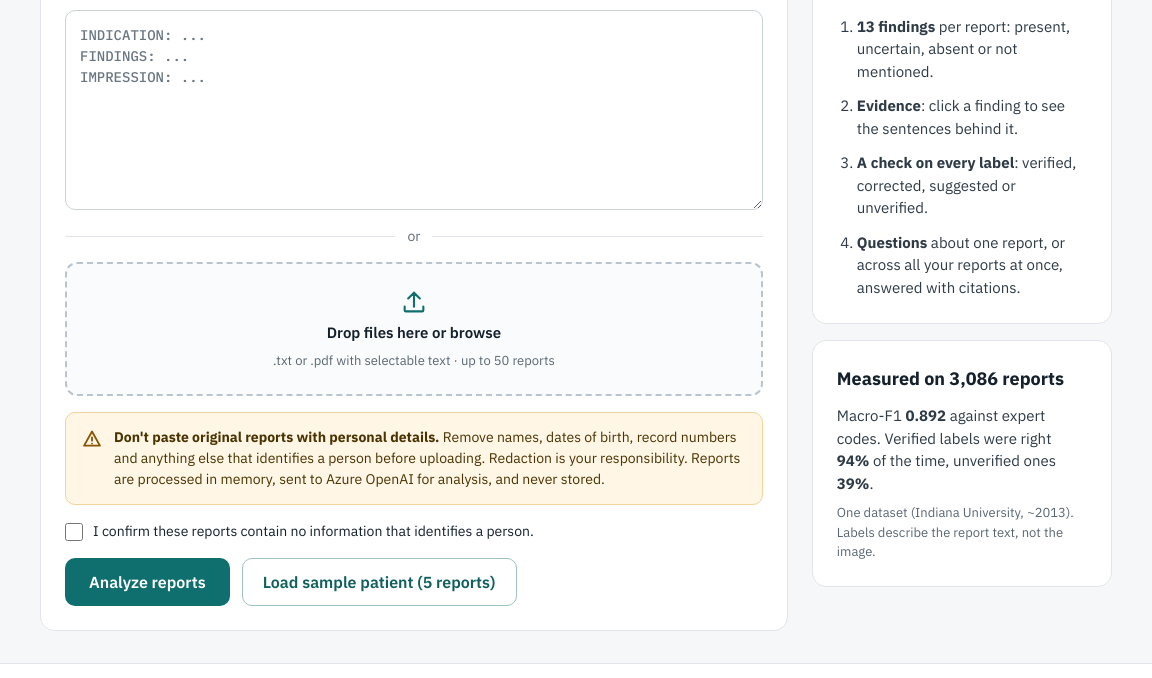
Test case: the sample fills the upload list with readable file cards; no confirmation needed
The image size is (1152, 678).
(page scrolled)
Click the button "Load sample patient (5 reports)". click: (379, 582)
box: [242,558,516,606]
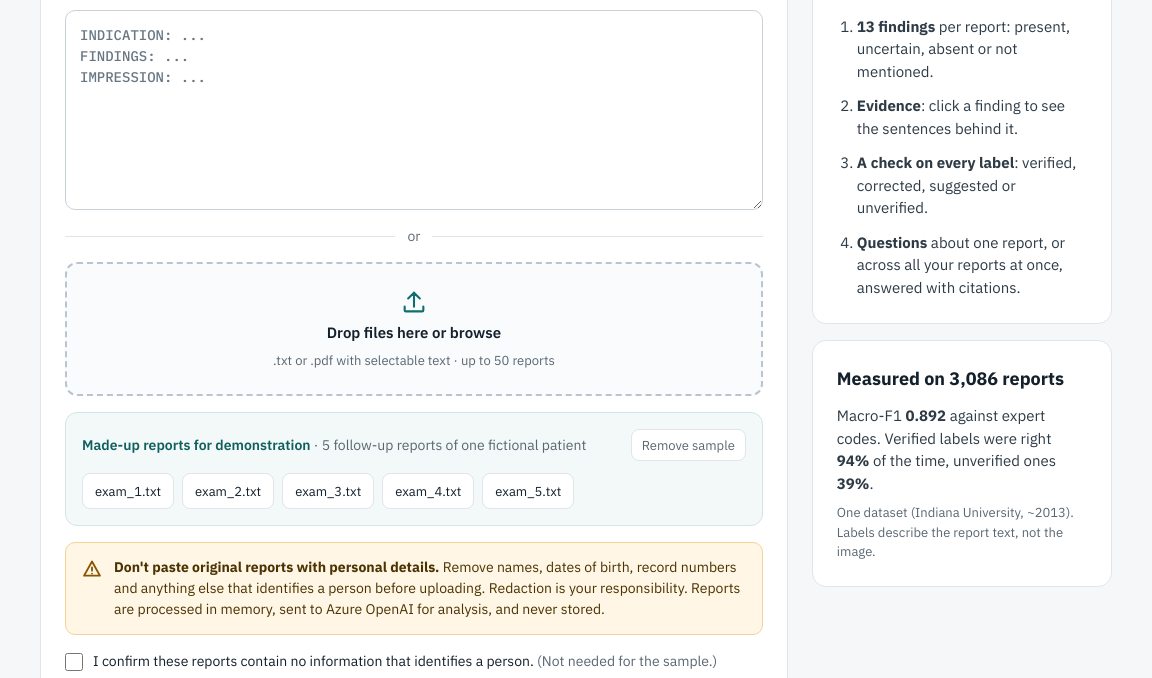
Expected: the text "Made-up reports for demonstration" is shown, [82,436,314,454]
Expected: the buttons read "exam_1.txt", "exam_2.txt", "exam_3.txt", "exam_4.txt", "exam_5.txt", in this order
Click the button "exam_3.txt". click: (328, 491)
box: [282,473,374,509]
(page scrolled)
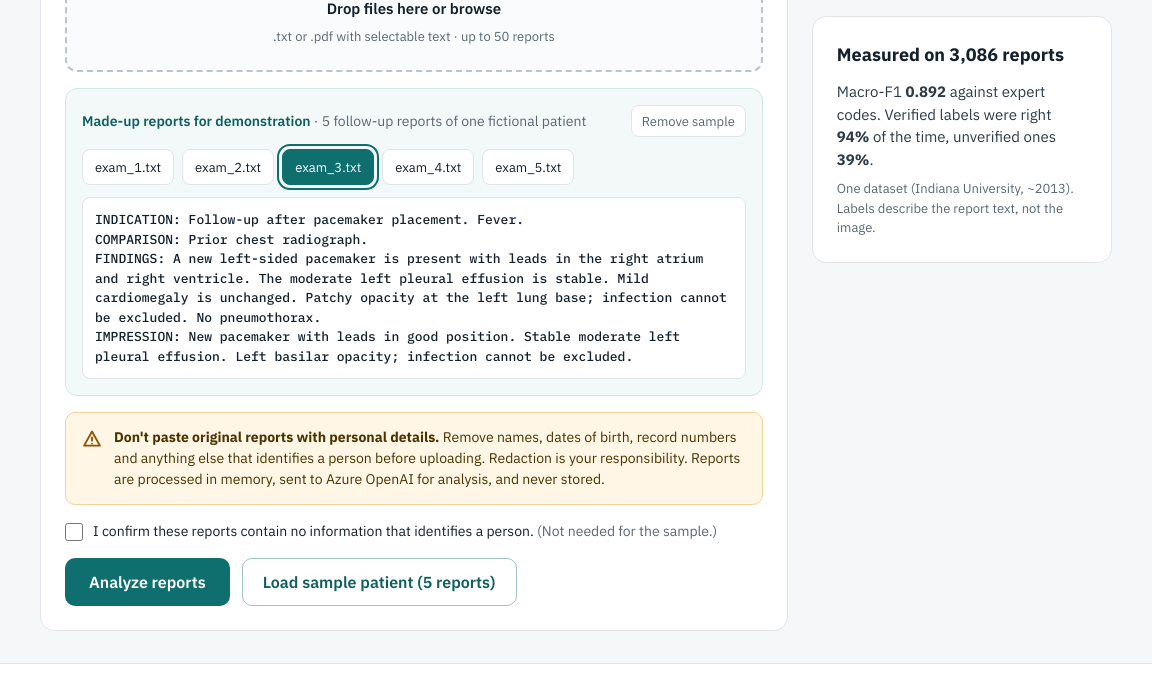
Expected: the text named "Text of exam_3.txt" shows "A new left-sided pacemaker is present", [95,211,735,365]
Click the button "Analyze reports". click: (147, 582)
box: [65,558,230,606]
(page scrolled)
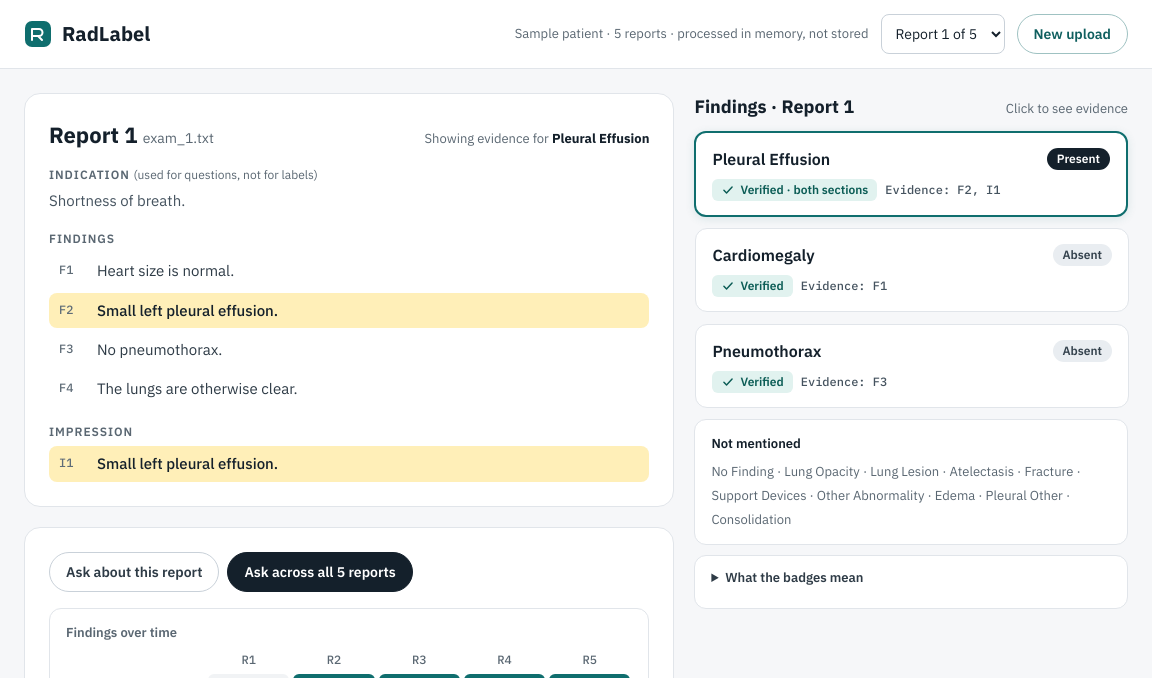
Expected: the heading "Report 1 exam_1.txt" is shown, [49,118,214,151]
